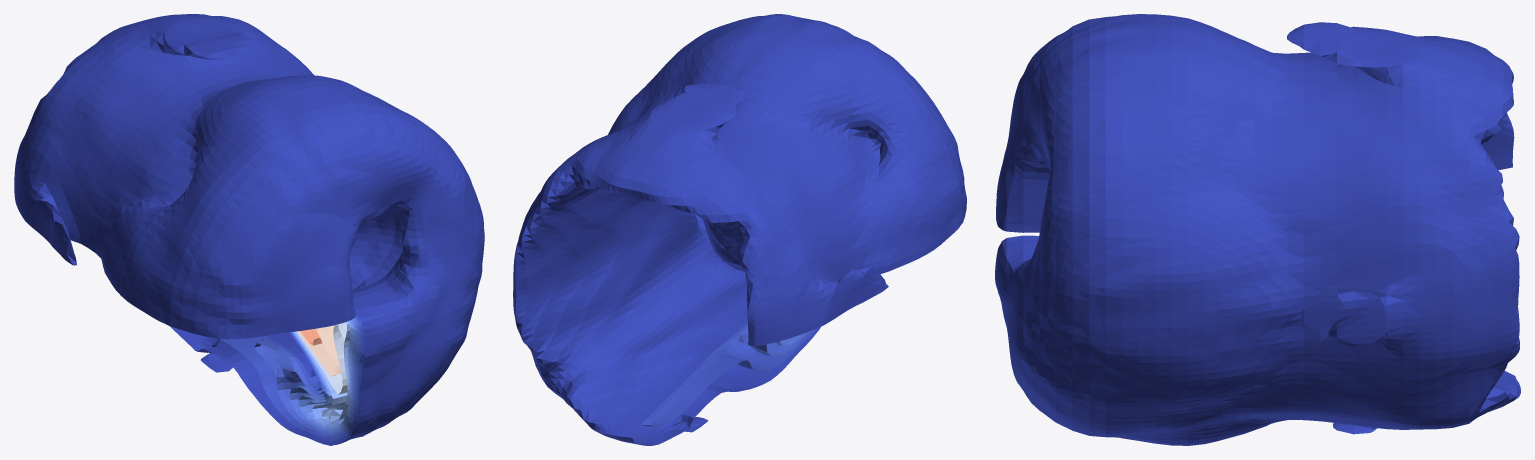
The model's file is min.gltf.
The picture shows the model from 3 angles, left to right: view 1: azimuth 30°, elevation 25°; view 2: azimuth 150°, elevation 25°; view 3: azimuth 270°, elevation 25°; orthographic projection. The views are drawn at different scales.
Bounding box in the file's own units: 3.36 × 3.31 × 3.98.
1 material, 1 textured.
